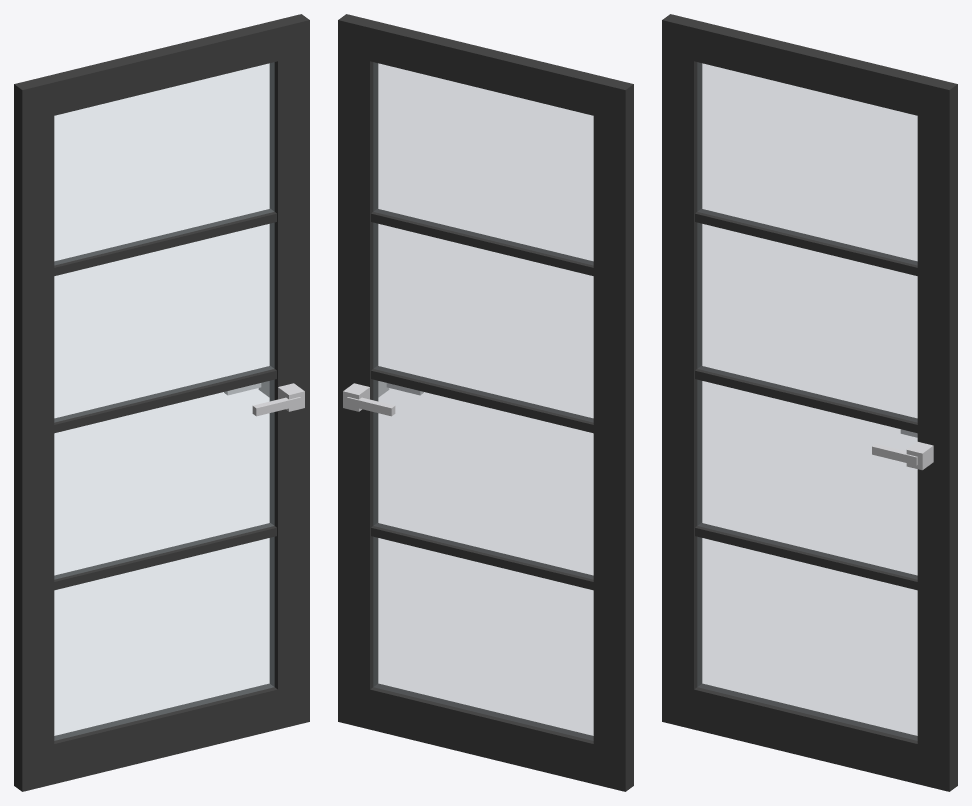
Rendered from mlo_door_glazed_black.glb.
3 views of the same model, side by side, from view 1: azimuth 30°, elevation 25°; view 2: azimuth 150°, elevation 25°; view 3: azimuth 330°, elevation 25° (orthographic).
Parts seen in each view (by area): view 1: Door_Glazed_Black; view 2: Door_Glazed_Black; view 3: Door_Glazed_Black.
Boxes of the visible parts, bbox=[...] form: Door_Glazed_Black: bbox=[14, 14, 309, 791]; Door_Glazed_Black: bbox=[338, 14, 633, 791]; Door_Glazed_Black: bbox=[662, 14, 957, 791].
Bounding box in the file's own units: 0.9 × 2.1 × 0.175.
